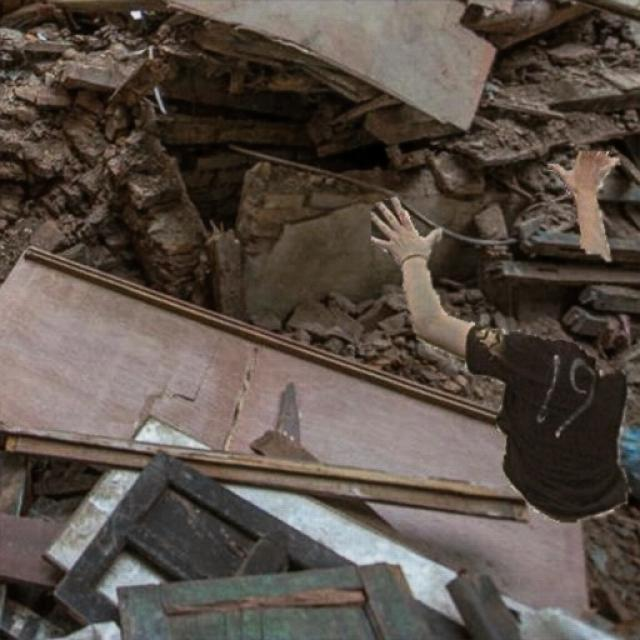Person in Rubble: (371, 151, 630, 521)
